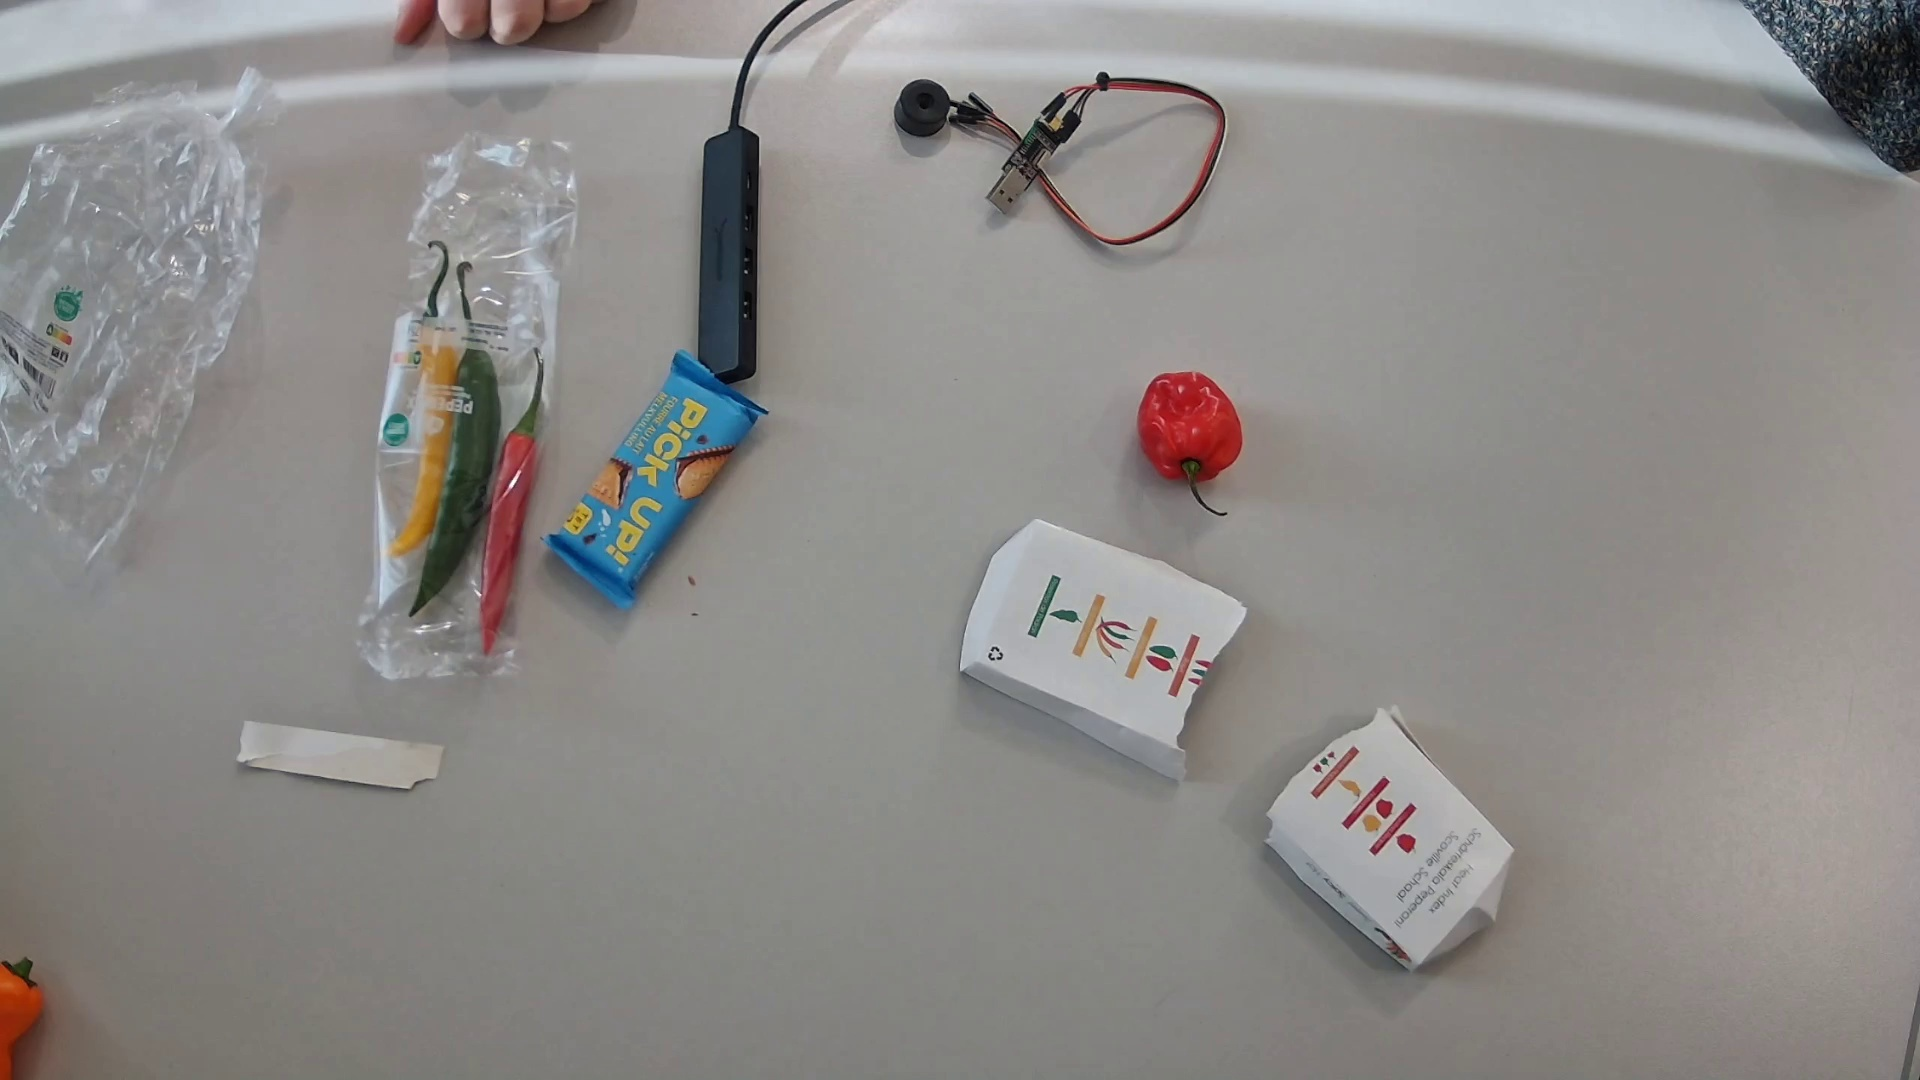Habanero_Pepper_Red: (1137, 372, 1242, 517)
Pick_up: (539, 349, 770, 615)
Spanish_Pepper_Green: (409, 261, 500, 618)
Spanish_Pepper_Red: (480, 347, 545, 658)
Spanish_Pepper_Yellow: (376, 241, 448, 554)
